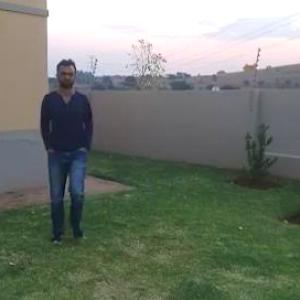follow: (35, 54, 97, 235)
